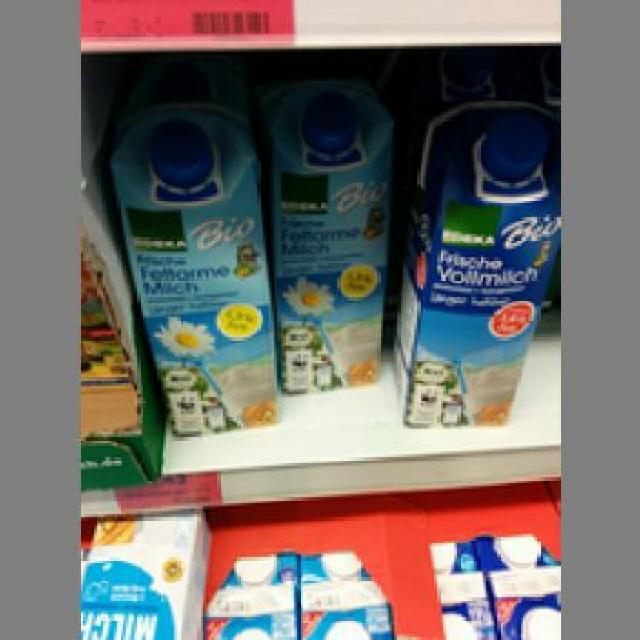Milk: (108, 109, 274, 432), (392, 103, 554, 426), (254, 86, 397, 392)
